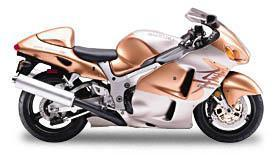motorcycle: (9, 4, 267, 149)
